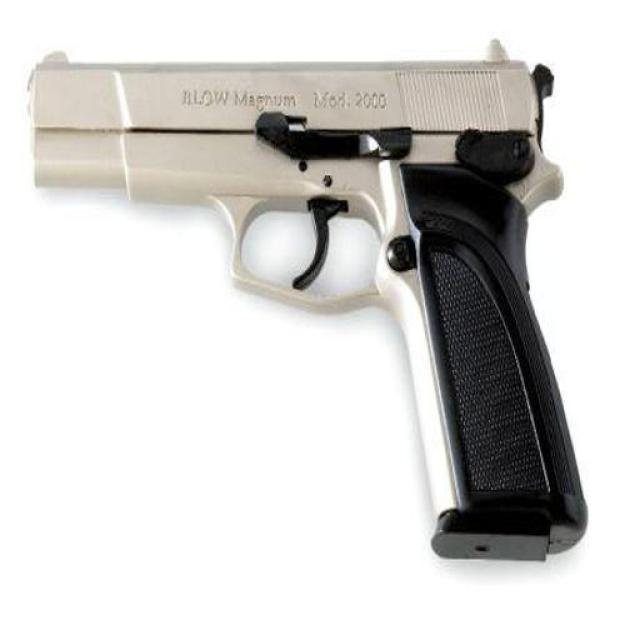pistol: (19, 38, 588, 564)
